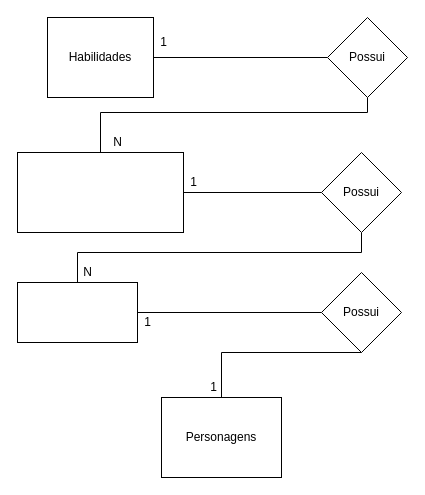
Some shapes in this 425 by 495 pixel diagram are drawn without their labels. The shapes that lost their labels are listed below. From the top down, each one's centre as x and y in pixels, then its label:
point 100,192: Tipos de habilidades
point 77,312: Classes
